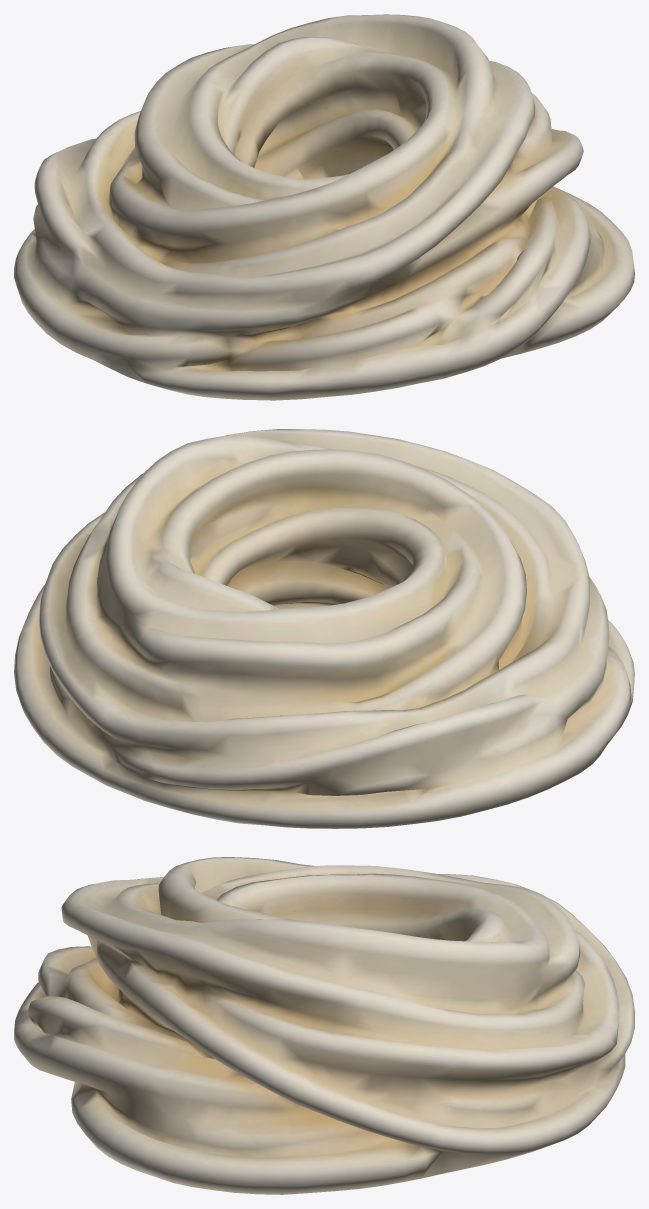
3 views of the same model, one above another, from view 1: azimuth 30°, elevation 25°; view 2: azimuth 150°, elevation 25°; view 3: azimuth 270°, elevation 25° (orthographic). The views are drawn at different scales.
Parts seen in each view (by area): view 1: Udon Noodles; view 2: Udon Noodles; view 3: Udon Noodles.
Boxes of the visible parts, x1,y1,x2,y2 form: Udon Noodles: [14, 14, 634, 400]; Udon Noodles: [14, 429, 634, 828]; Udon Noodles: [14, 857, 634, 1194].
Size of the model in its own units: 0.9941 by 0.3926 by 0.998.
1 material, 1 textured.
